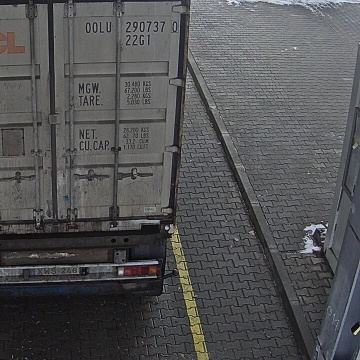serial_id: (86, 21, 178, 33)
